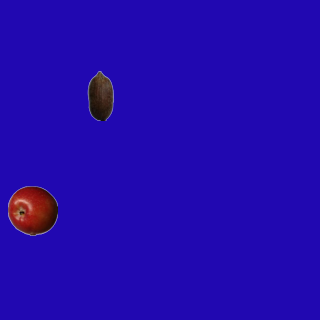Apple Braeburn: (7, 185, 57, 235)
Nut Pecan: (75, 70, 125, 120)
